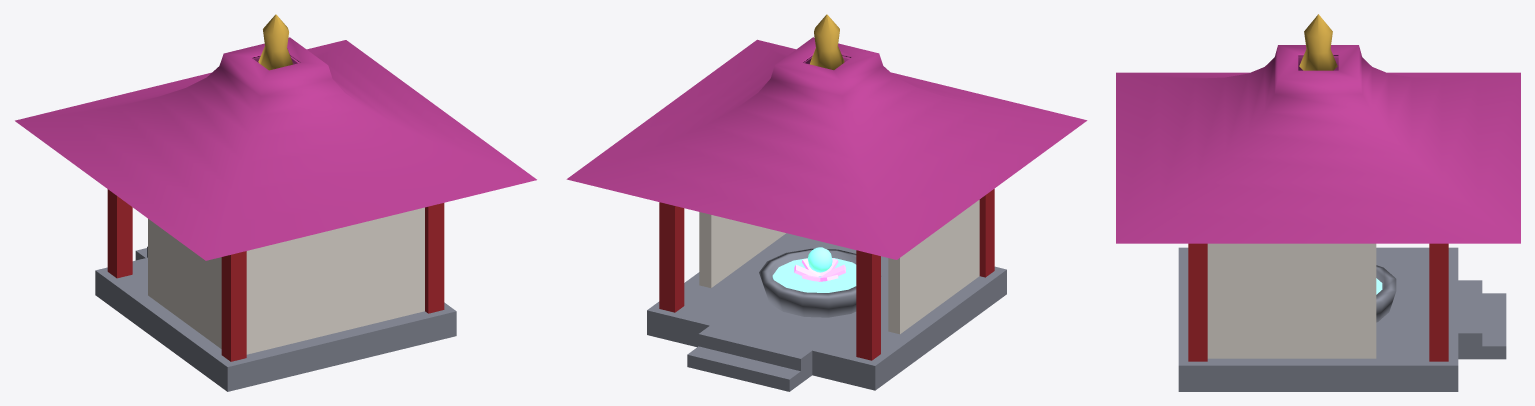
File: heal.glb
The picture shows the model from 3 angles, left to right: view 1: azimuth 30°, elevation 25°; view 2: azimuth 150°, elevation 25°; view 3: azimuth 270°, elevation 25°; orthographic projection. The views are drawn at different scales.
Visible parts, largest first — view 1: Roof_C2409A, Wall_F6EFE6, Stone_8A8E9C, Pillar_B3262E, Gold_E6B84A; view 2: Roof_C2409A, Stone_8A8E9C, Wall_F6EFE6, Pillar_B3262E, Water_7DF0C8, Gold_E6B84A, Leaf_FF8BD0; view 3: Roof_C2409A, Stone_8A8E9C, Wall_F6EFE6, Pillar_B3262E, Gold_E6B84A.
Part boxes in pixels (x1,y1,x2,y2): Roof_C2409A: [15, 37, 536, 260]; Wall_F6EFE6: [148, 207, 424, 354]; Stone_8A8E9C: [95, 246, 456, 391]; Pillar_B3262E: [107, 189, 444, 361]; Gold_E6B84A: [258, 14, 293, 70]; Roof_C2409A: [566, 37, 1087, 259]; Stone_8A8E9C: [647, 233, 1006, 391]; Wall_F6EFE6: [699, 200, 979, 334]; Pillar_B3262E: [659, 189, 994, 360]; Water_7DF0C8: [772, 247, 856, 292]; Gold_E6B84A: [810, 14, 844, 69]; Leaf_FF8BD0: [794, 258, 845, 281]; Roof_C2409A: [1116, 45, 1520, 243]; Stone_8A8E9C: [1178, 247, 1506, 391]; Wall_F6EFE6: [1207, 243, 1376, 358]; Pillar_B3262E: [1188, 243, 1448, 361]; Gold_E6B84A: [1299, 14, 1337, 70].
Size of the model in its own units: 30 by 26.07 by 30.
